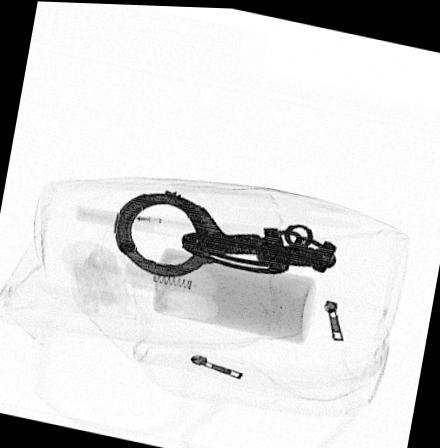HandCuffs: (112, 184, 340, 275)
